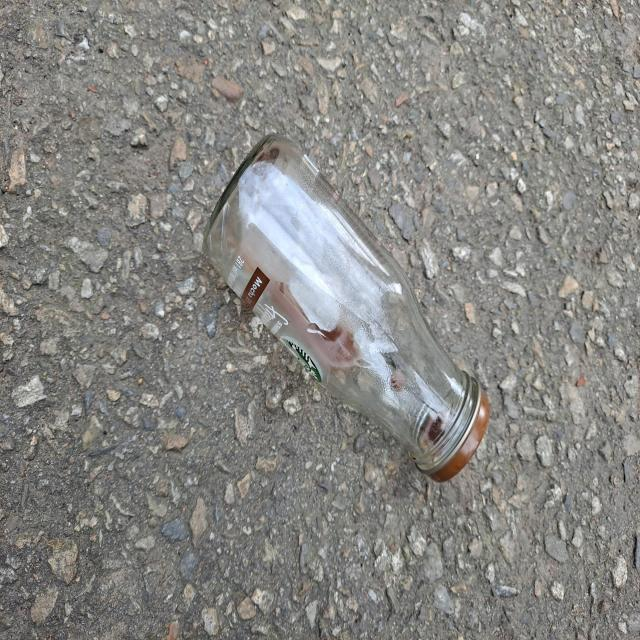glass: (204, 134, 490, 482)
